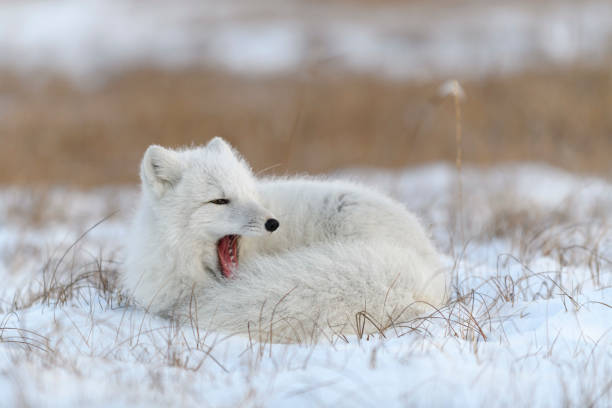arcticfox: (160, 159, 284, 292)
